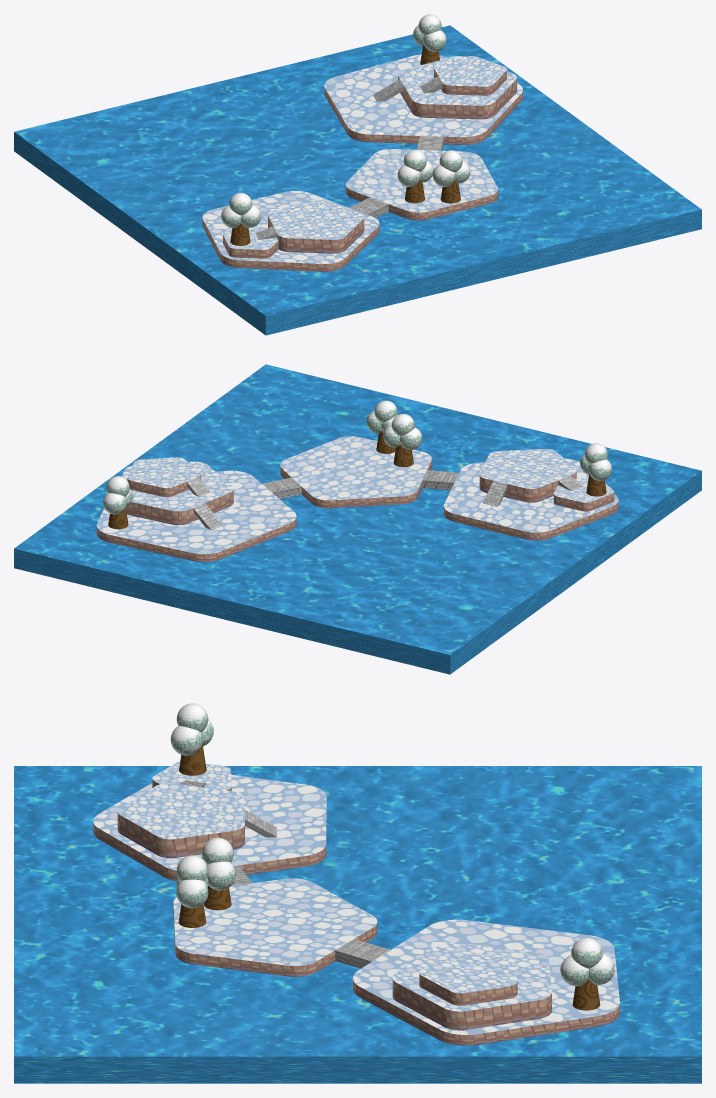
The model's file is landscape1.obj.
3 views of the same model, one above another, from view 1: azimuth 30°, elevation 25°; view 2: azimuth 150°, elevation 25°; view 3: azimuth 270°, elevation 25° (orthographic). The views are drawn at different scales.
Visible parts, largest first — view 1: Cube.004, Cylinder.003, Cylinder, Cylinder.002, Cylinder.001, Cylinder.005, Cylinder.006, Cylinder.004; view 2: Cube.004, Cylinder, Cylinder.003, Cylinder.002, Cylinder.001, Cylinder.005, Cylinder.006, Cylinder.004; view 3: Cube.004, Cylinder, Cylinder.003, Cylinder.002, Cylinder.001, Cylinder.005, Cylinder.006, Cylinder.004, Sphere.007, Sphere.010, Sphere.003, Sphere.001 (+6 smaller).
Part boxes in pixels (x1=…): Cube.004: x1=14, y1=25, x2=701, y2=335; Cylinder.003: x1=324, y1=54, x2=522, y2=144; Cylinder: x1=345, y1=135, x2=498, y2=220; Cylinder.002: x1=202, y1=191, x2=379, y2=271; Cylinder.001: x1=268, y1=199, x2=364, y2=253; Cylinder.005: x1=398, y1=56, x2=516, y2=119; Cylinder.006: x1=434, y1=56, x2=506, y2=95; Cylinder.004: x1=223, y1=225, x2=278, y2=258; Cube.004: x1=14, y1=364, x2=701, y2=674; Cylinder: x1=262, y1=436, x2=458, y2=508; Cylinder.003: x1=96, y1=470, x2=296, y2=561; Cylinder.002: x1=443, y1=458, x2=618, y2=540; Cylinder.001: x1=479, y1=449, x2=576, y2=502; Cylinder.005: x1=121, y1=461, x2=233, y2=524; Cylinder.006: x1=127, y1=457, x2=200, y2=497; Cylinder.004: x1=553, y1=478, x2=614, y2=511; Cube.004: x1=14, y1=766, x2=701, y2=1083; Cylinder: x1=173, y1=865, x2=390, y2=976; Cylinder.003: x1=353, y1=919, x2=619, y2=1045; Cylinder.002: x1=93, y1=774, x2=326, y2=880; Cylinder.001: x1=117, y1=783, x2=244, y2=858; Cylinder.005: x1=392, y1=942, x2=551, y2=1030; Cylinder.006: x1=419, y1=951, x2=517, y2=1005; Cylinder.004: x1=152, y1=761, x2=231, y2=791; Sphere.007: x1=176, y1=879, x2=208, y2=908; Sphere.010: x1=170, y1=726, x2=202, y2=755; Sphere.003: x1=571, y1=937, x2=602, y2=968; Sphere.001: x1=207, y1=861, x2=235, y2=890.
Bounding box in the file's own units: 54.18 × 9.97 × 54.18.
16 materials, 16 textured.
